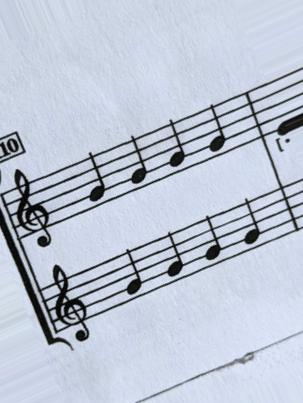G: (201, 105, 232, 157), (117, 248, 149, 296), (82, 152, 112, 202), (161, 119, 190, 170), (124, 137, 154, 185), (240, 197, 268, 248), (161, 231, 189, 279), (198, 216, 224, 261)
